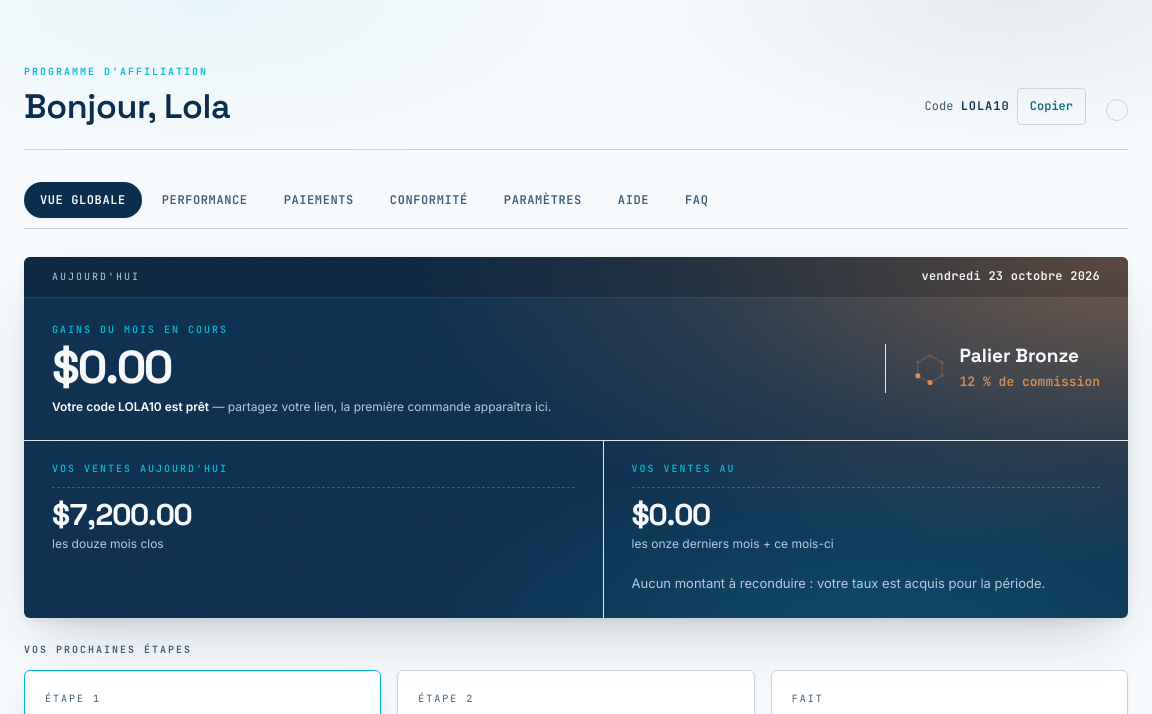
l'historique › la colonne de période affiche la période COUVERTE
Click the button with test id "affiliate-tab-payments" at (319,200), box [268,182,370,218]
(page scrolled)
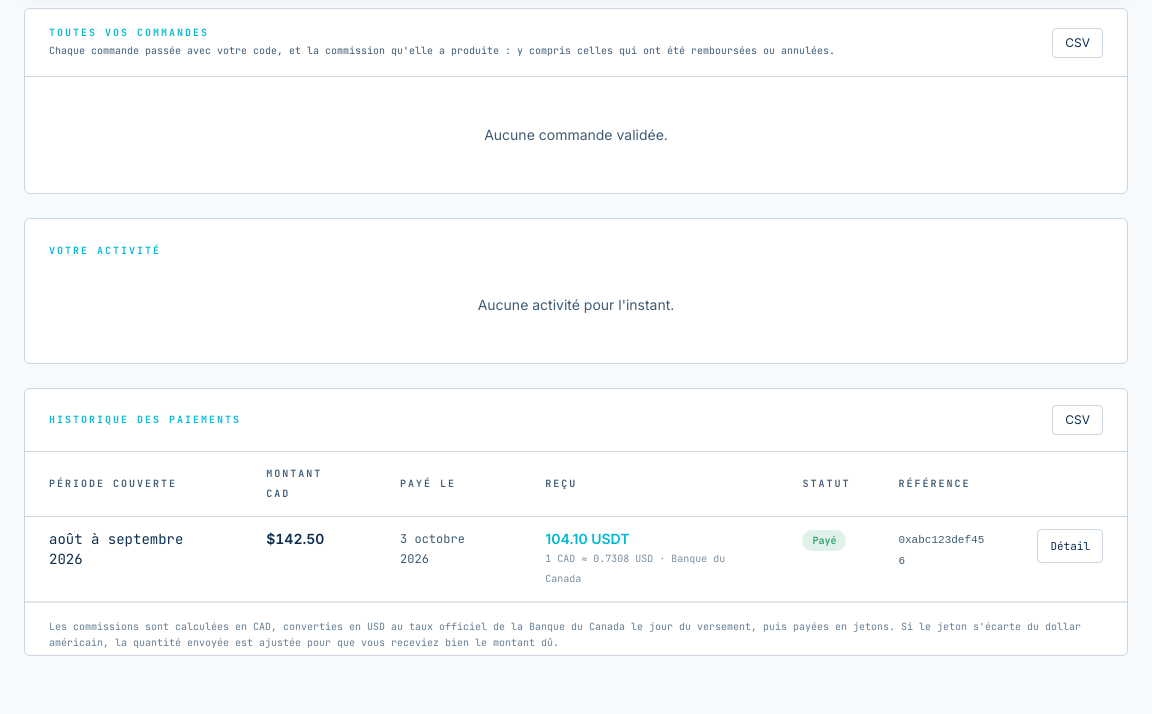
Expected: the cell with test id "historique-periode-pay-1" does not show "2026-10", [25,516,242,601]
Now the cell with test id "historique-periode-pay-1" shows "août", box [49,530,183,568]
Now the cell with test id "historique-periode-pay-1" shows "septembre", box [49,530,183,568]
